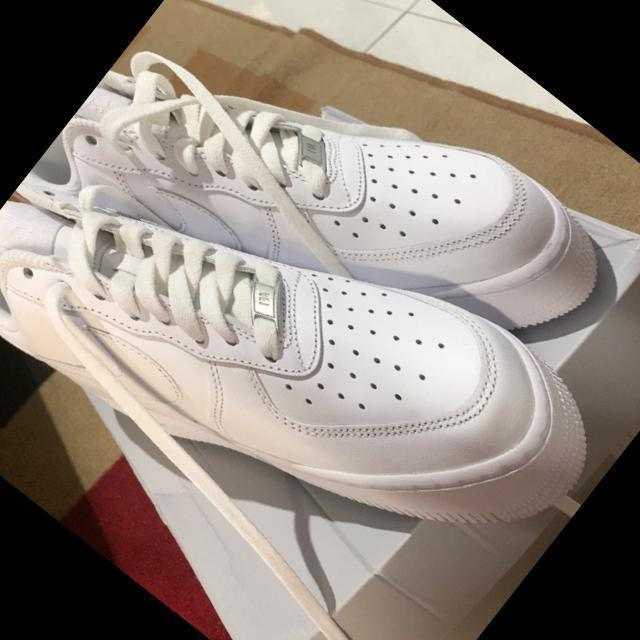nike original air force: (0, 36, 625, 640), (14, 0, 633, 515)
